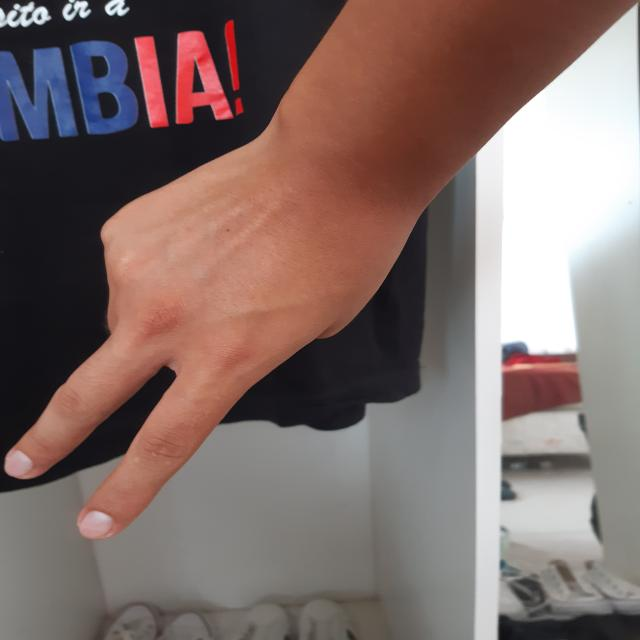EYE: (0, 140, 419, 544)
